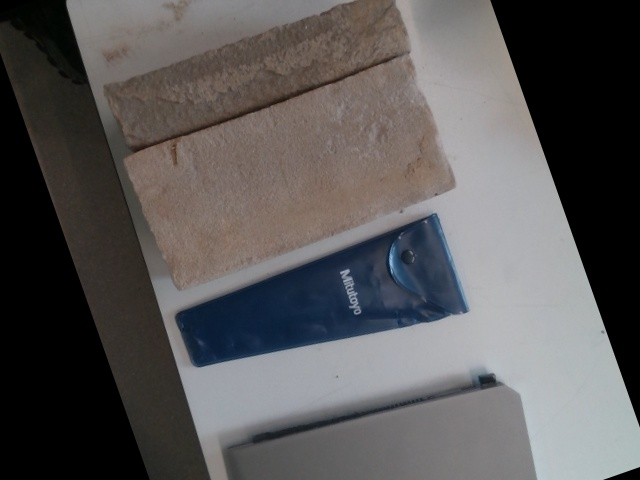brick: (124, 50, 453, 294)
